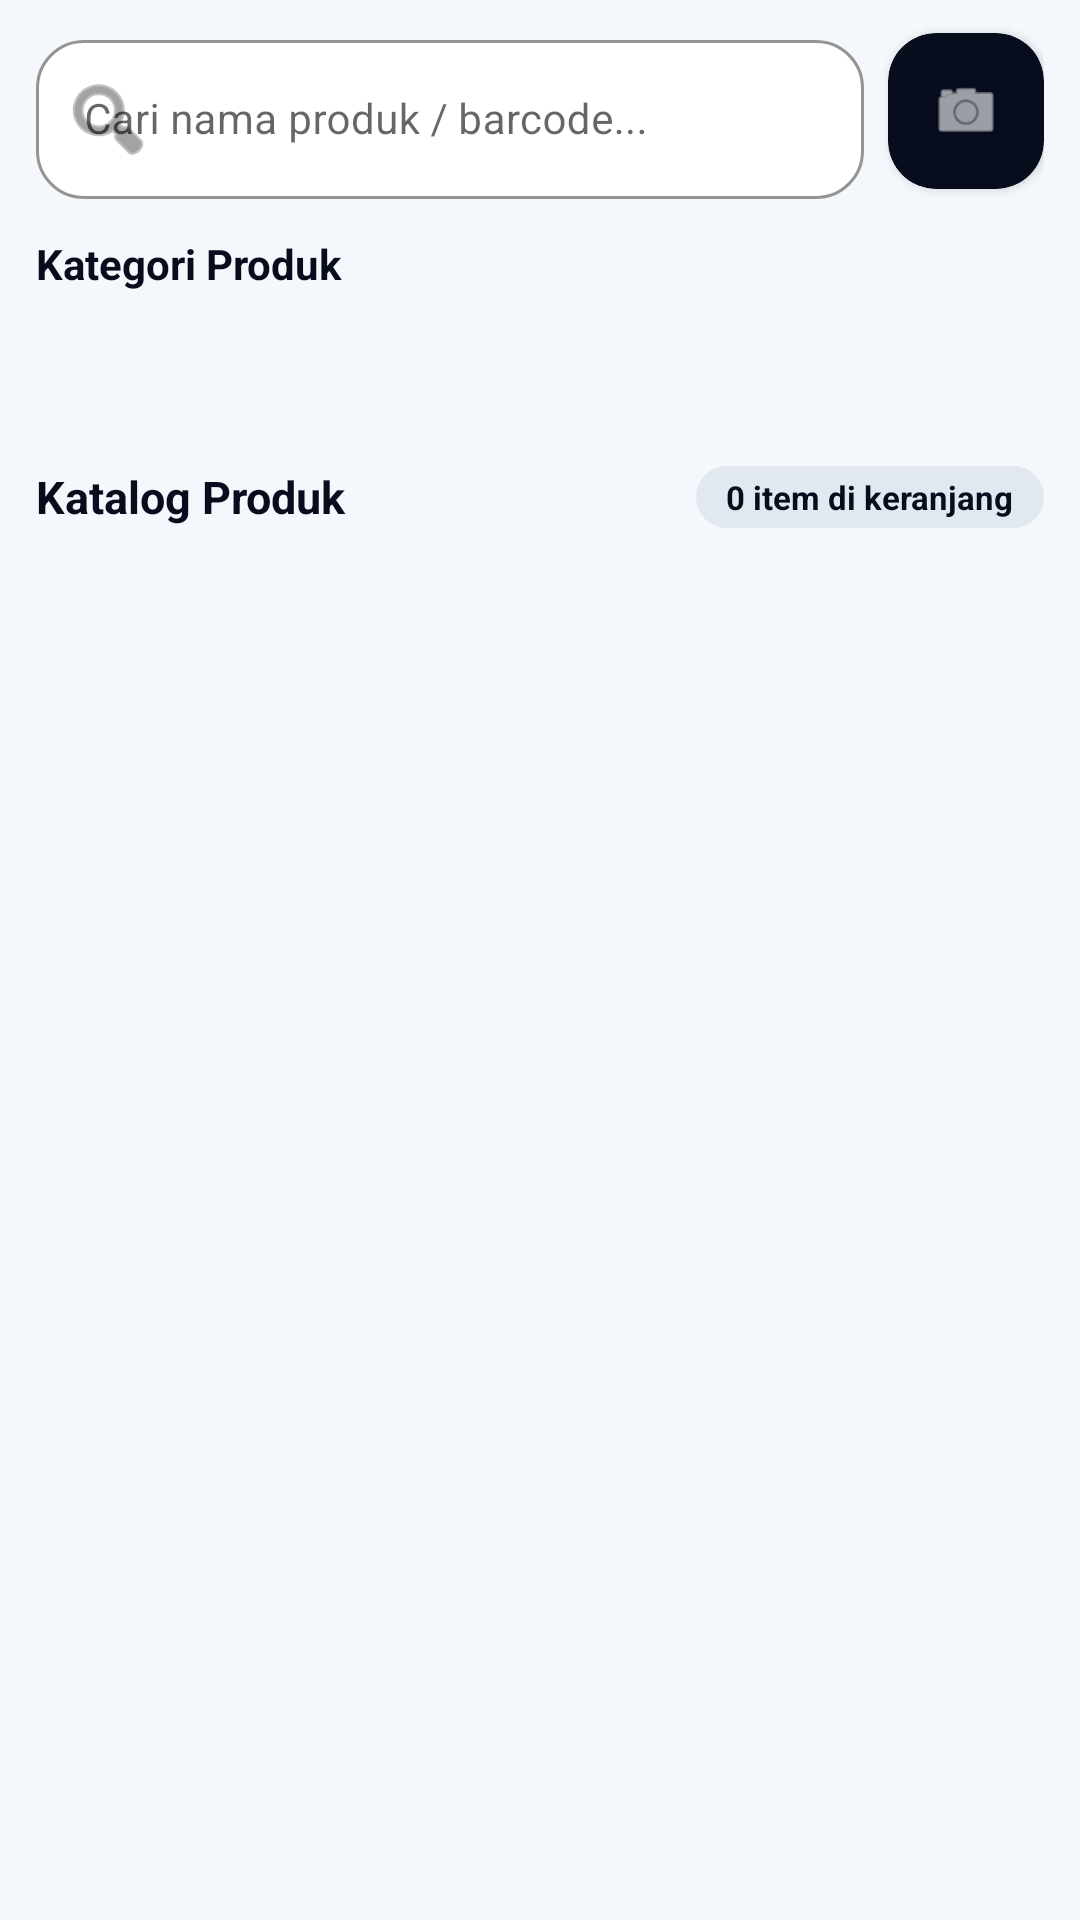

Point at icon controls on the screen. Image size 1080*1920, points as point (x, y).
Scan Barcode Produk: point (966, 110)
